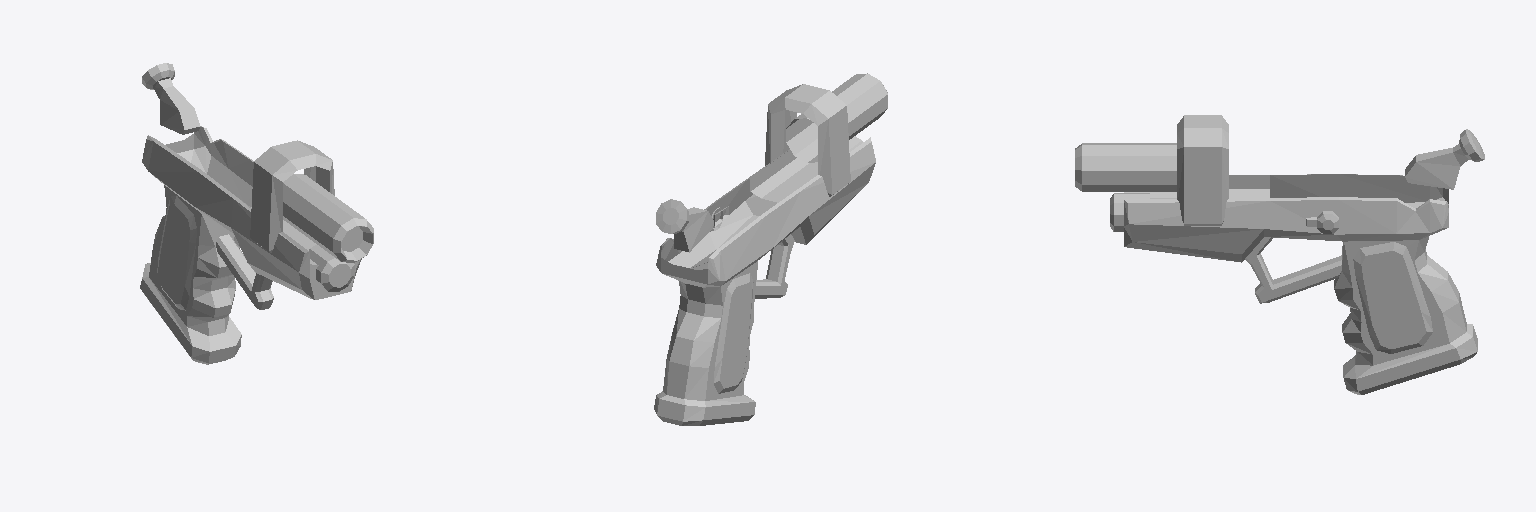
The model's file is Pistol_Body.obj.
The picture shows the model from 3 angles: view 1: azimuth 30°, elevation 25°; view 2: azimuth 150°, elevation 25°; view 3: azimuth 270°, elevation 25°; orthographic projection.
Visible parts, largest first — view 1: Pistol_body; view 2: Pistol_body; view 3: Pistol_body.
Boxes of the visible parts, x1=… form: Pistol_body: x1=140, y1=63, x2=373, y2=364; Pistol_body: x1=654, y1=73, x2=887, y2=425; Pistol_body: x1=1075, y1=115, x2=1484, y2=394.
Bounding box in the file's own units: 2.43 × 8.87 × 12.27.